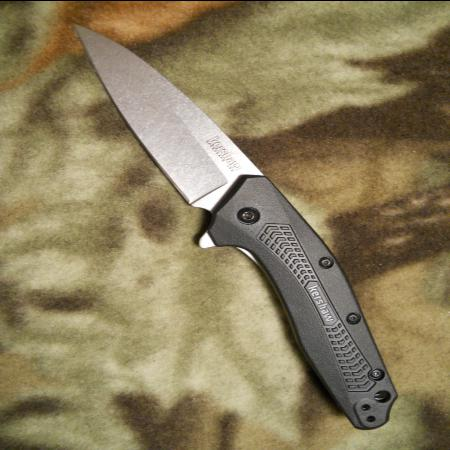long weapon: (64, 15, 280, 220)
